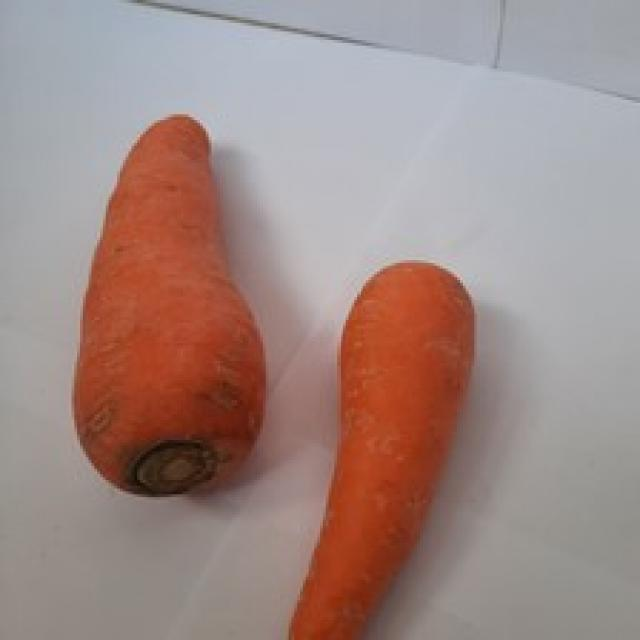carrot: (74, 112, 272, 500), (282, 260, 477, 640)
